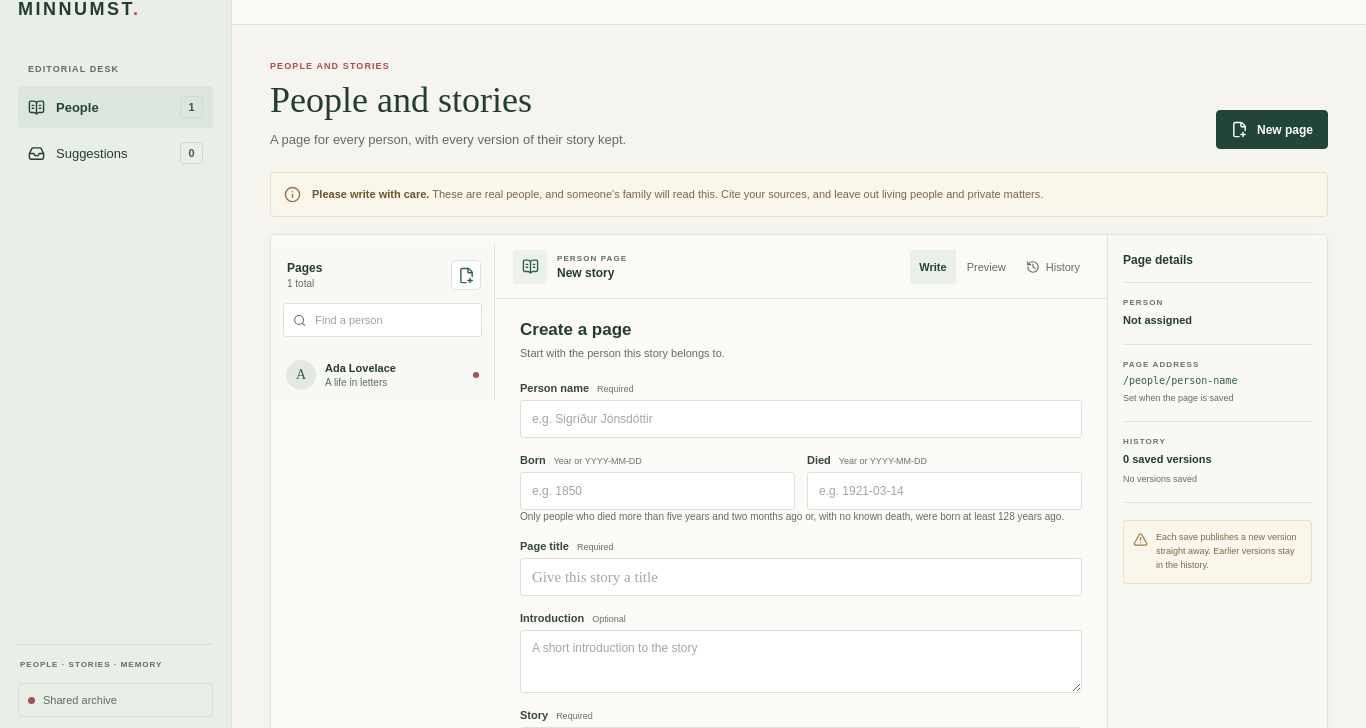
Test: story page editor › falls back to the story summary when no revisions come back
The width and height of the screenshot is (1366, 728).
Click the button "A Ada Lovelace A life in letters".
click(382, 375)  # box [278,349,487,400]
(page scrolled)
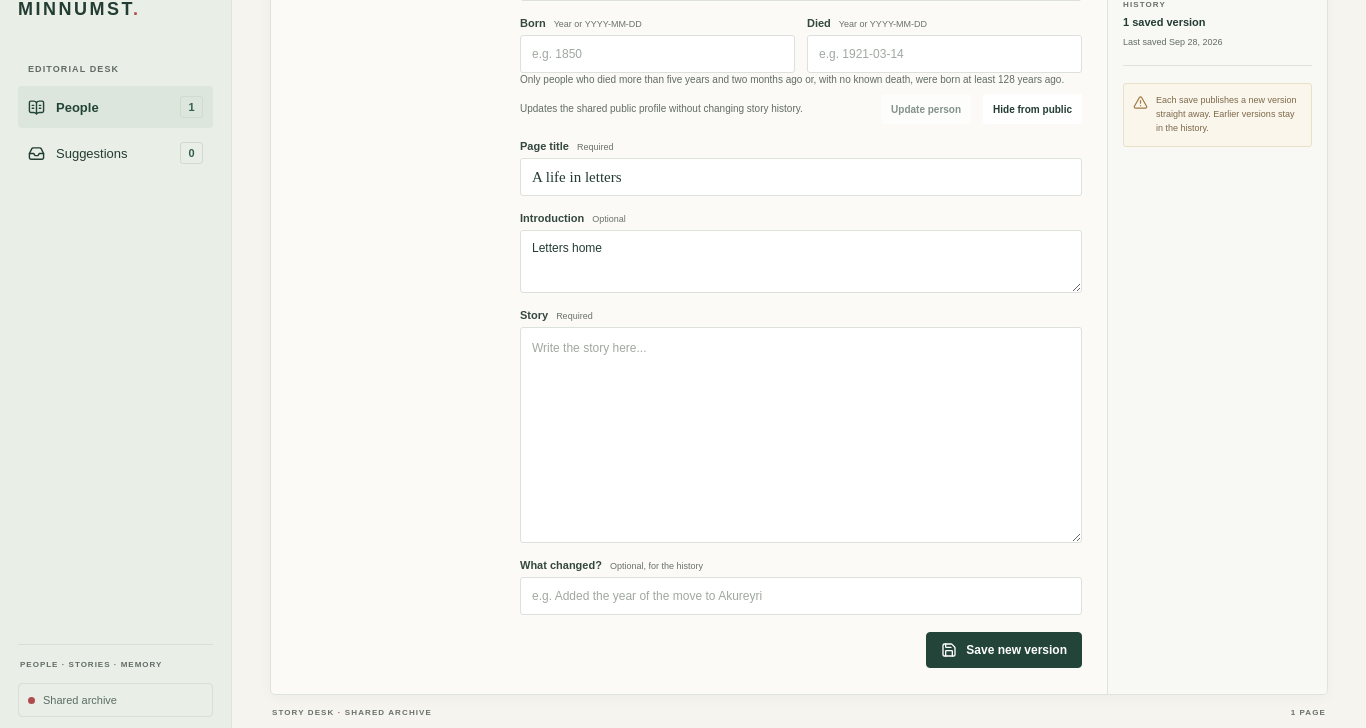
Expected: the field labelled "Page title Required" holds "A life in letters", [520,158,1082,196]
Expected: the text box labelled "Introduction Optional" holds "Letters home", [520,230,1082,293]
Expected: the text "1 saved version" is shown, [1123,16,1206,28]
